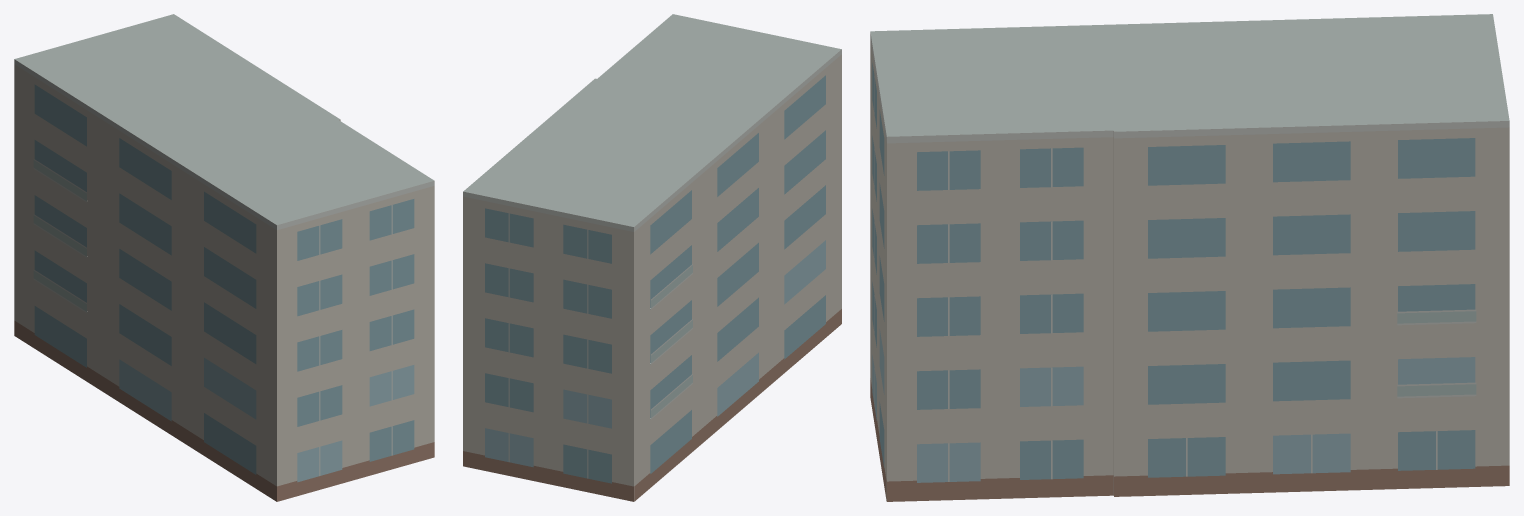
The model's file is survey-upis-32606029.glb.
3 views of the same model, side by side, from view 1: azimuth 30°, elevation 25°; view 2: azimuth 150°, elevation 25°; view 3: azimuth 270°, elevation 25° (orthographic). The views are drawn at different scales.
Visible parts, largest first — view 1: survey-upis-32606029.tmp; view 2: survey-upis-32606029.tmp; view 3: survey-upis-32606029.tmp.
Boxes of the visible parts, x1=… form: survey-upis-32606029.tmp: x1=14, y1=14, x2=434, y2=501; survey-upis-32606029.tmp: x1=463, y1=14, x2=841, y2=501; survey-upis-32606029.tmp: x1=870, y1=14, x2=1509, y2=501.
Bounding box in the file's own units: 9.75 × 13.5 × 21.44.
